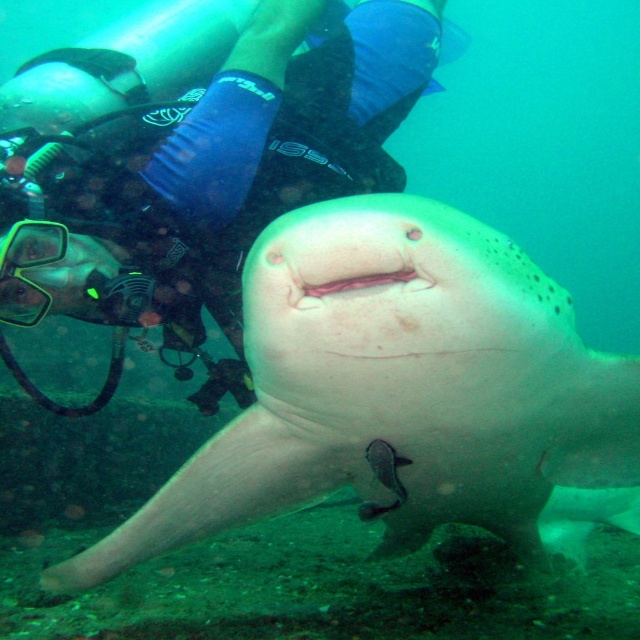Fish: (67, 181, 603, 619)
